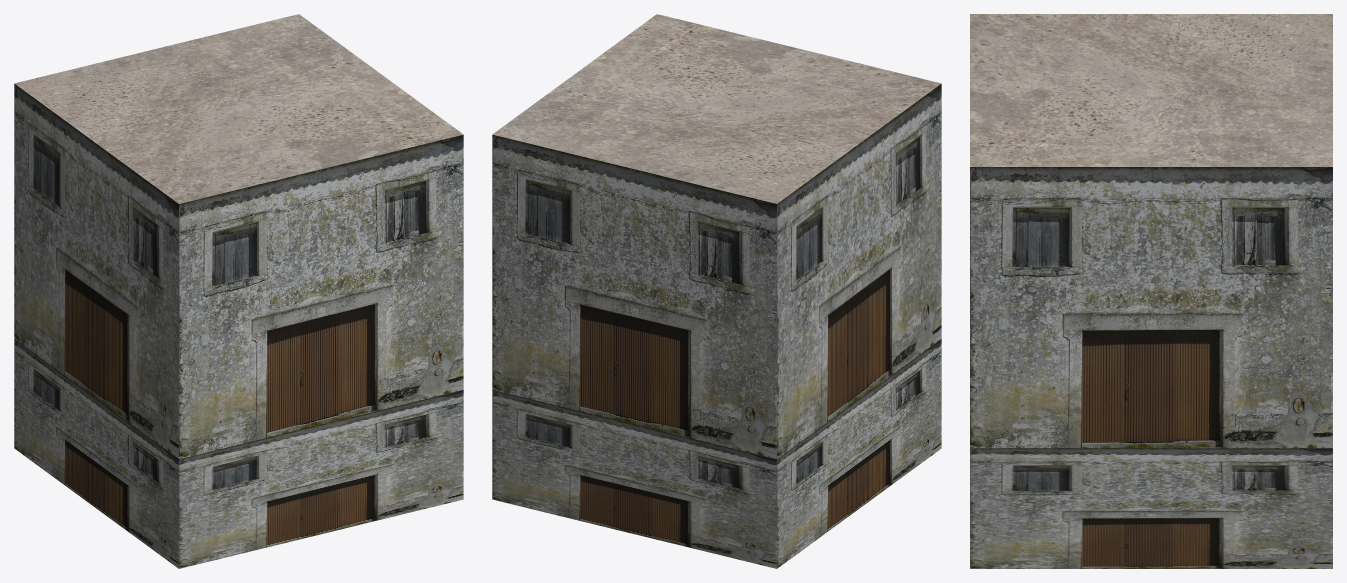
The model's file is BagBuilding12_0.fbx.
3 renders of one model, left to right at view 1: azimuth 30°, elevation 25°; view 2: azimuth 150°, elevation 25°; view 3: azimuth 270°, elevation 25°, orthographic. The views are drawn at different scales.
Visible parts, largest first — view 1: Box0, BoxA0, roof0; view 2: Box0, BoxA0, roof0; view 3: Box0, roof0, BoxA0.
Part boxes in pixels (box(x1,y1,x2,y2)): Box0: box(14, 84, 463, 459); BoxA0: box(14, 339, 463, 568); roof0: box(14, 14, 463, 203); Box0: box(492, 84, 941, 459); BoxA0: box(492, 339, 941, 568); roof0: box(492, 14, 941, 203); Box0: box(970, 167, 1332, 448); roof0: box(970, 14, 1332, 166); BoxA0: box(970, 448, 1332, 568).
Size of the model in its own units: 14.52 by 17.78 by 14.55.
